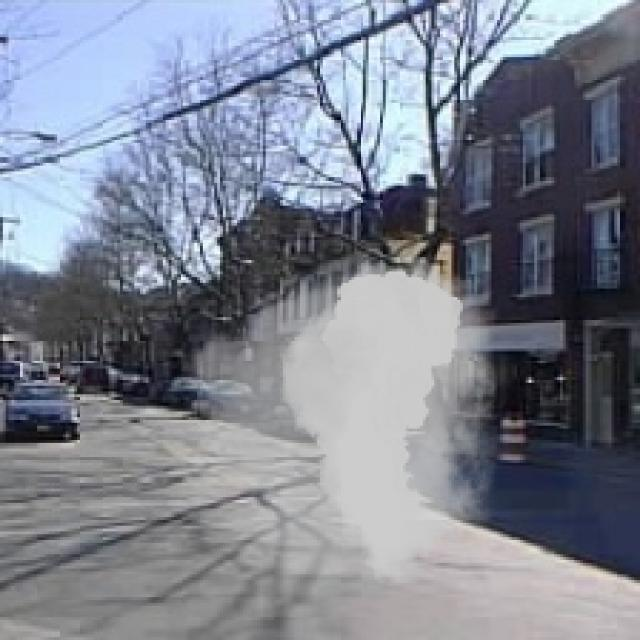smoke: (145, 245, 526, 606)
